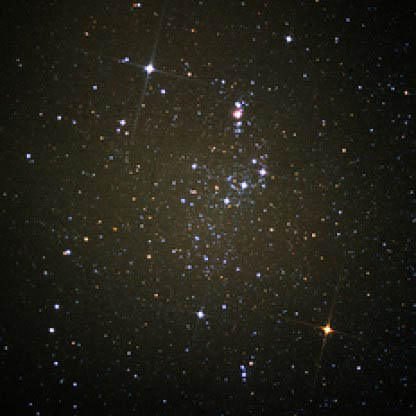Orion: (300, 294, 349, 354), (132, 45, 173, 94), (181, 296, 219, 333), (278, 25, 303, 55), (234, 171, 253, 202), (214, 188, 235, 216), (254, 159, 276, 185)
